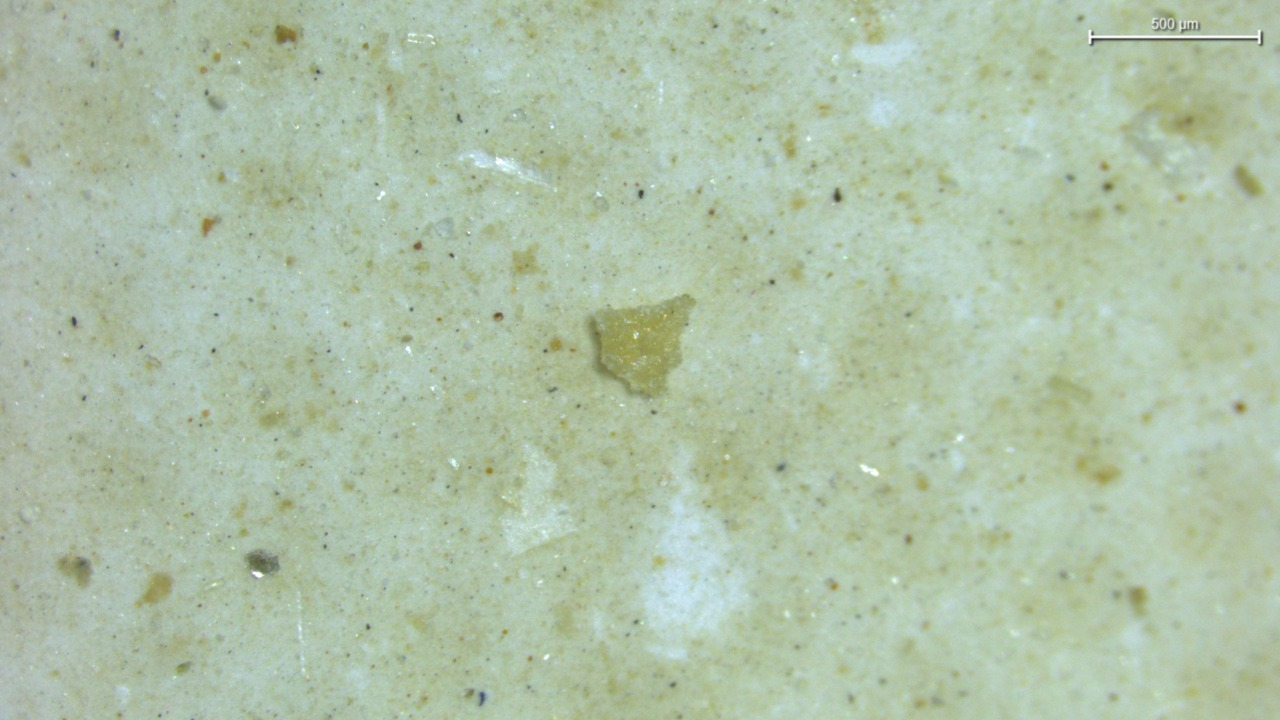microplastic_fragment: (594, 294, 695, 396)
